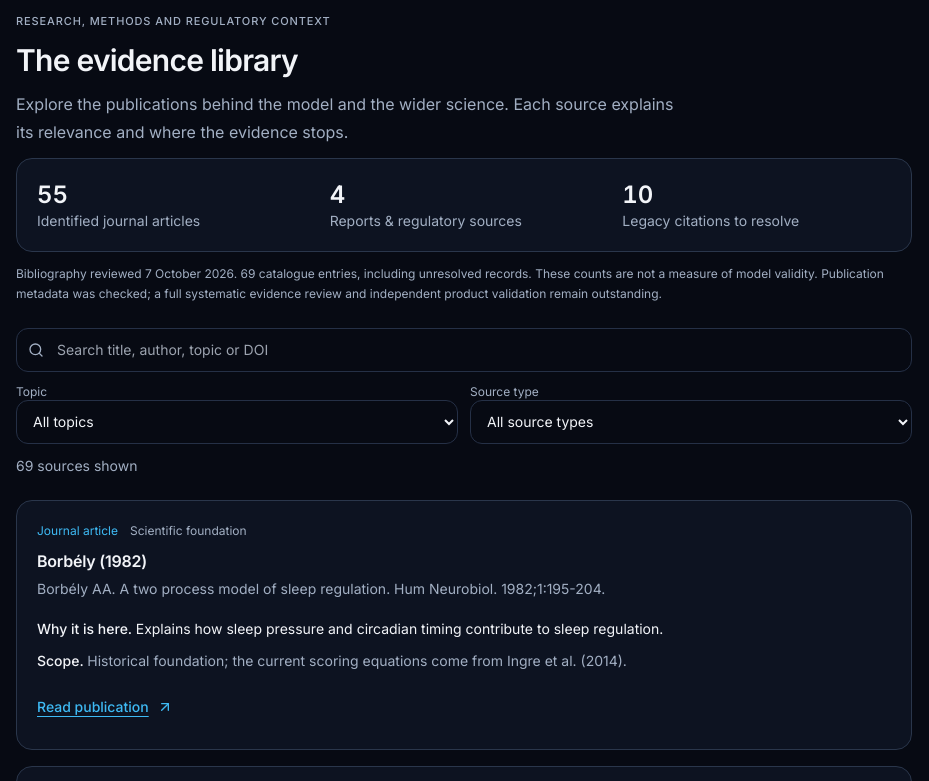
evidence library › separates unresolved records from identified publications and makes them searchable
This screenshot has width=929, height=781.
Step 1. Select "Unresolved legacy citation" in the dropdown labelled "Source type" → (691, 422), box top-left (470, 400), bottom-right (912, 444)
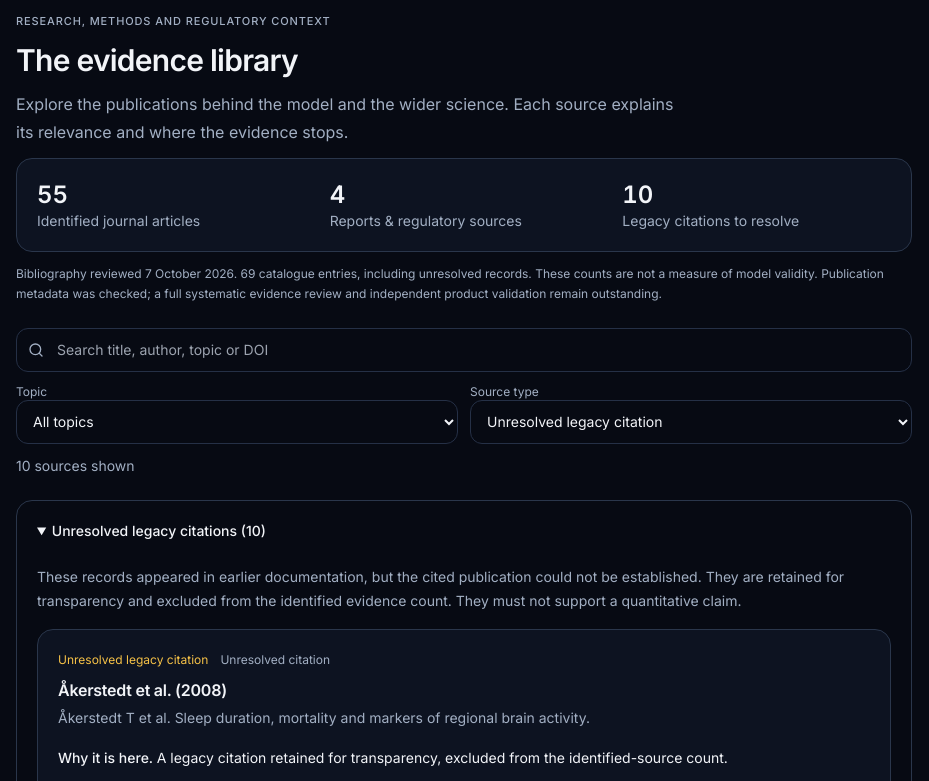
Now the text "excluded from the identified evidence count" is shown, box top-left (37, 568), bottom-right (844, 608)
